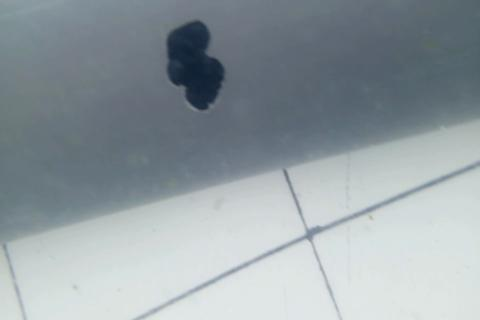kebocoran: (166, 17, 228, 114)
